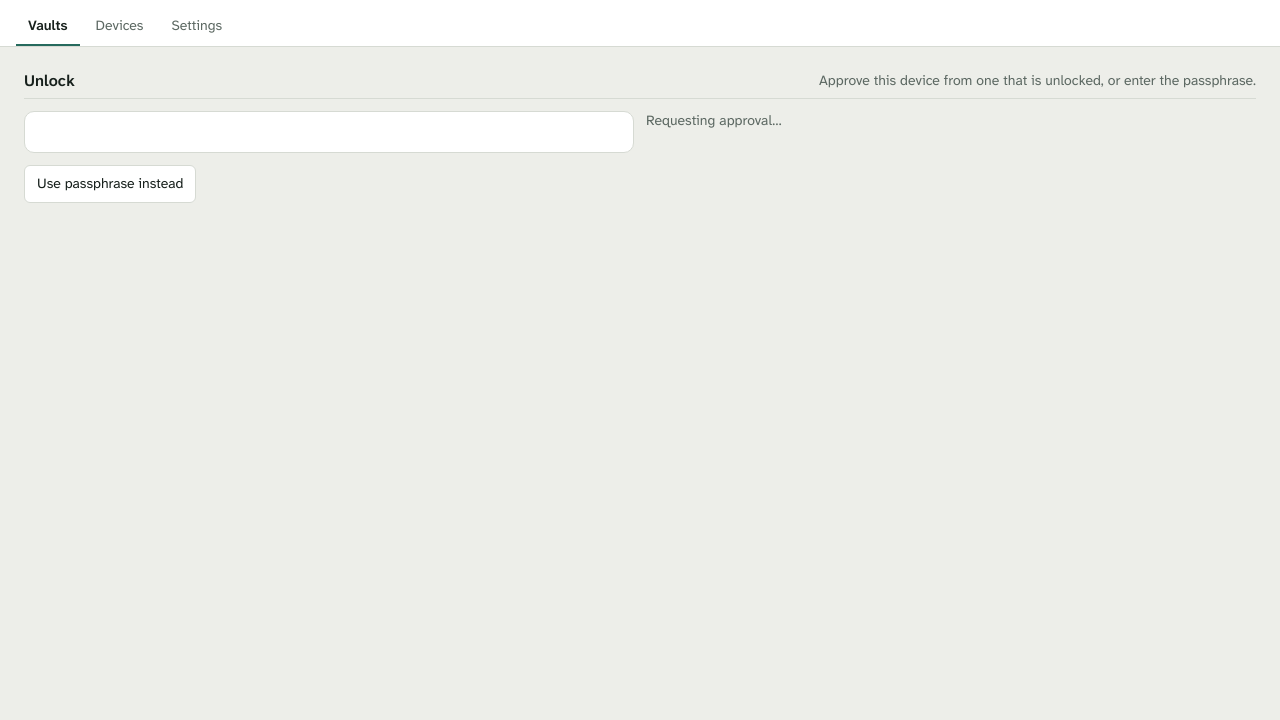
it: device approval (spec §12.3, §15.3) › reveals the passphrase field on Use passphrase instead and unlocks with it
The width and height of the screenshot is (1280, 720).
expect the message with test id "approvalWaitingText" reads "Requesting approval…": met, box [646,111,782,129]
Click the button with test id "usePassphraseButton".
click(110, 184)  # box [24,165,196,203]
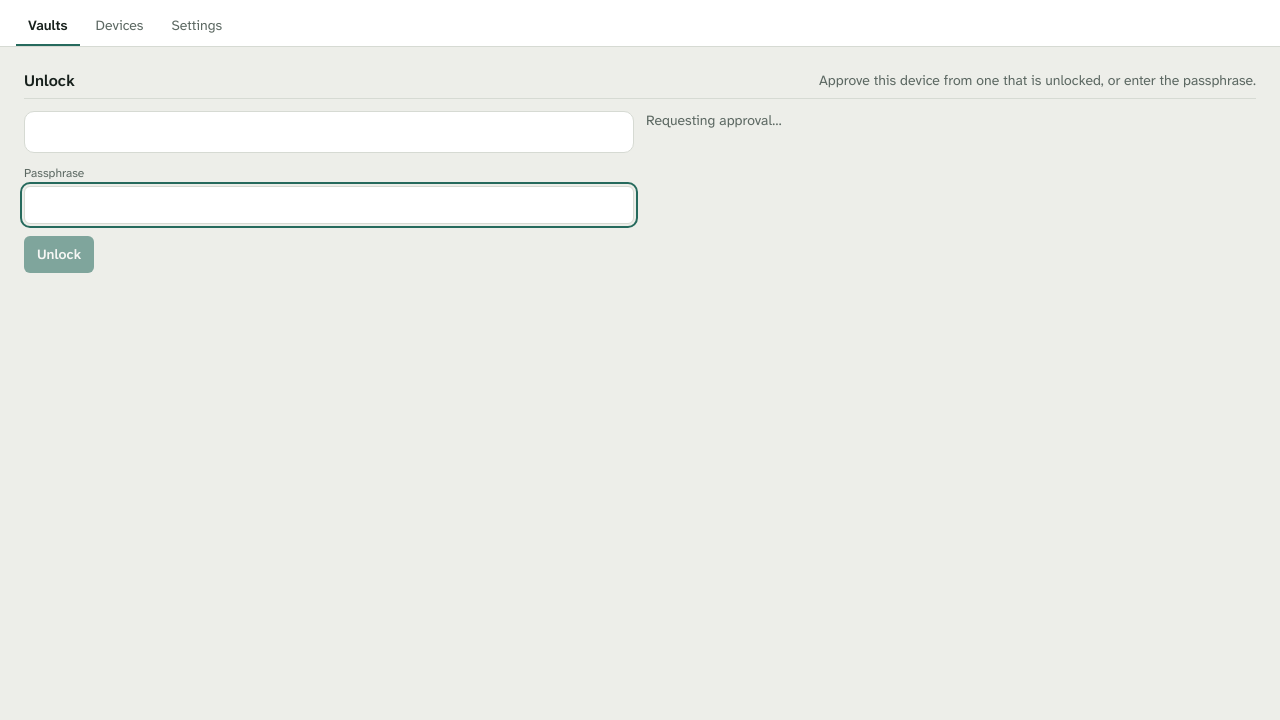
expect the button with test id "usePassphraseButton" is gone: met
Type "correct horse battery" into the password field with test id "unlockField".
click(329, 205); type("correct horse battery")  # box [24,186,634,224]
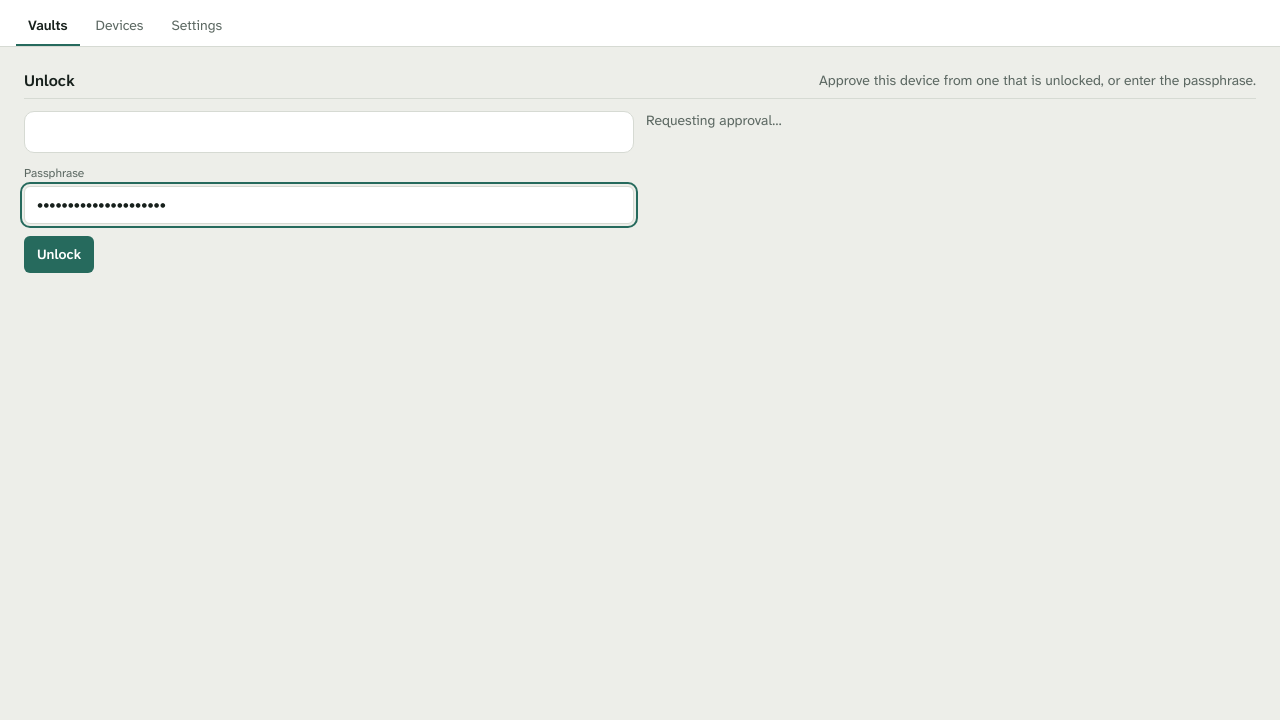
Click the button with test id "unlockButton".
click(59, 254)  # box [24,236,94,273]
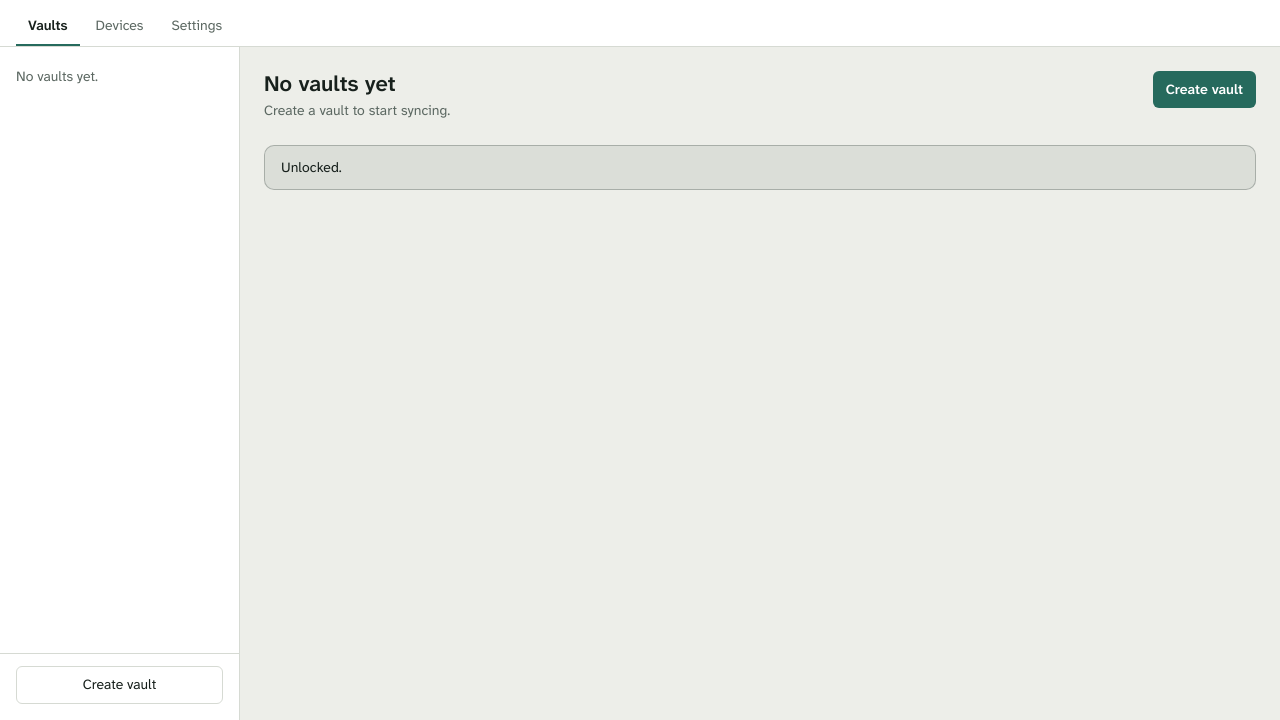
expect the text "Unlocked." is shown: met, box [264,145,1256,190]
